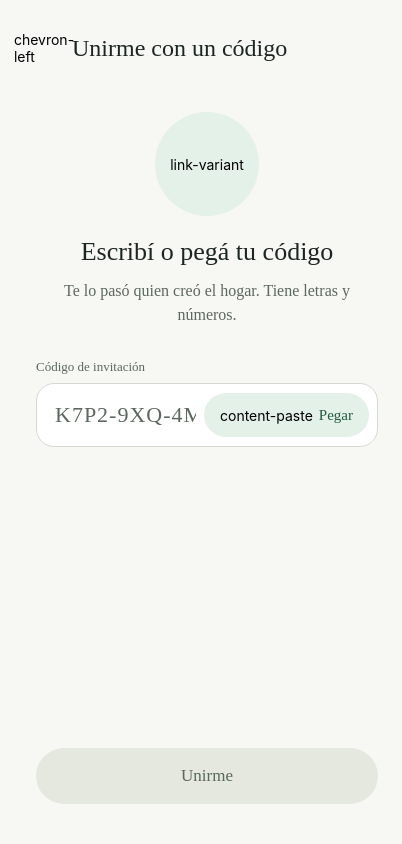
Test case: Sin hogar y sus flujos › Unirme con un código: une con el código normalizado y, mientras tanto, queda en "Uniéndome…"
Type " k7p2-9xq-4mn " into the field named "Código de invitación". click: (126, 415)
box: [55,402,196,428]
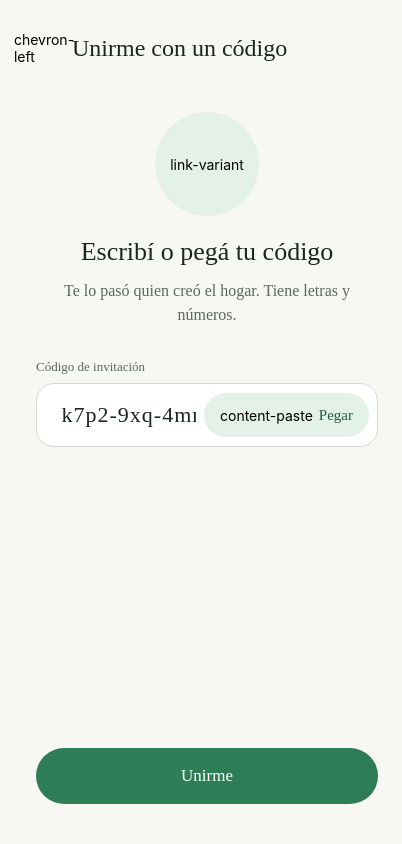
Click the button "Unirme". click: (207, 776)
box: [36,748,378,804]
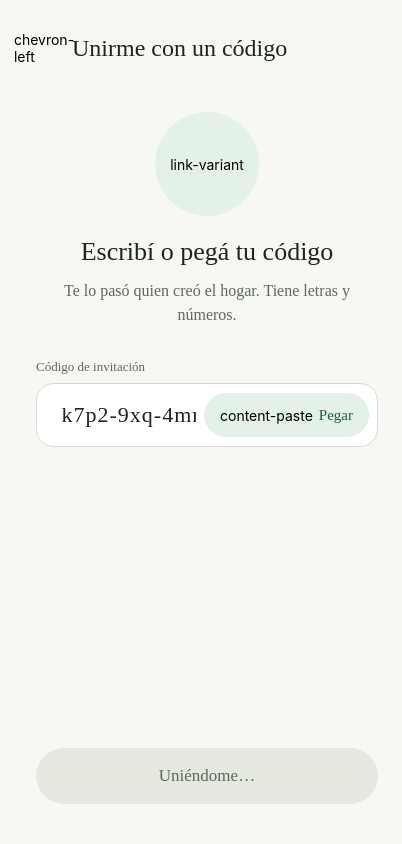
expect the button "Uniéndome…" is disabled: met
Click the button "Uniéndome…". click: (207, 776)
box: [36,748,378,804]
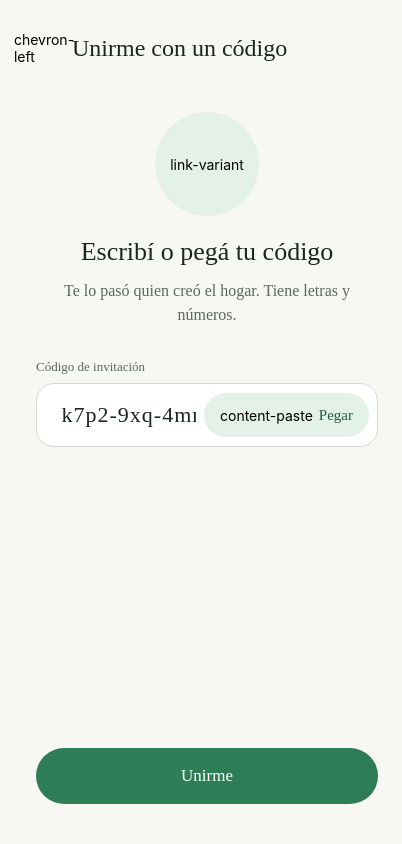
expect the button "Unirme" is enabled: met, box [36,748,378,804]
